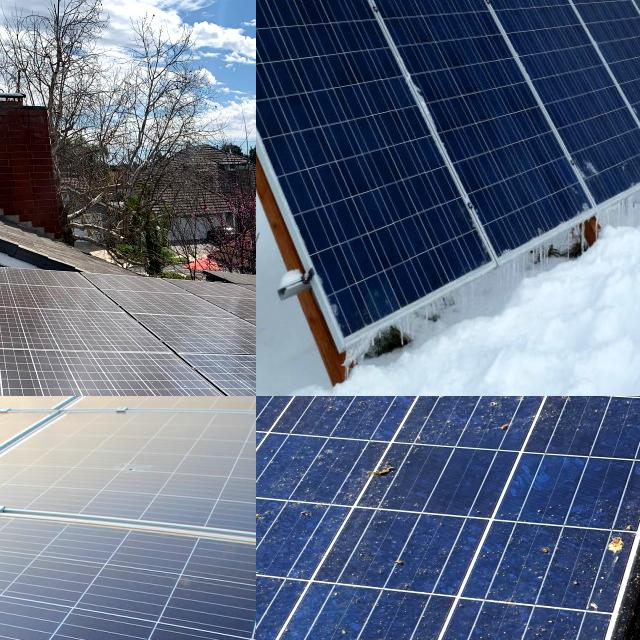bird: (322, 434, 436, 508), (570, 515, 640, 590), (256, 597, 300, 640)
